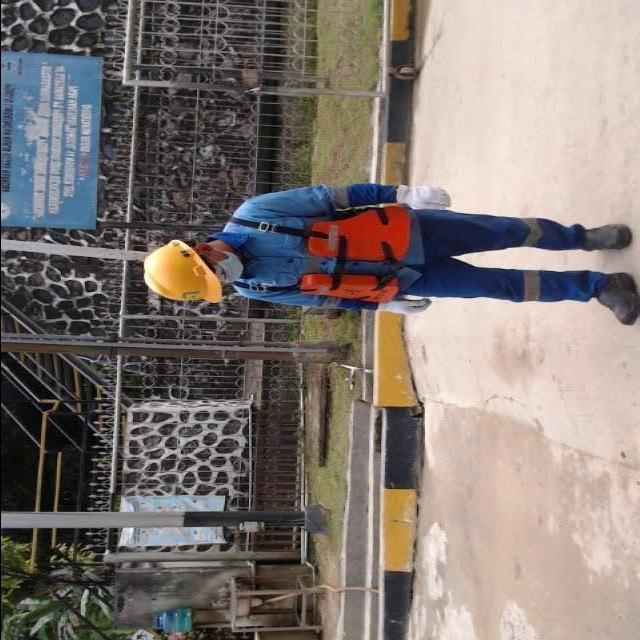helmet: (130, 227, 226, 307)
